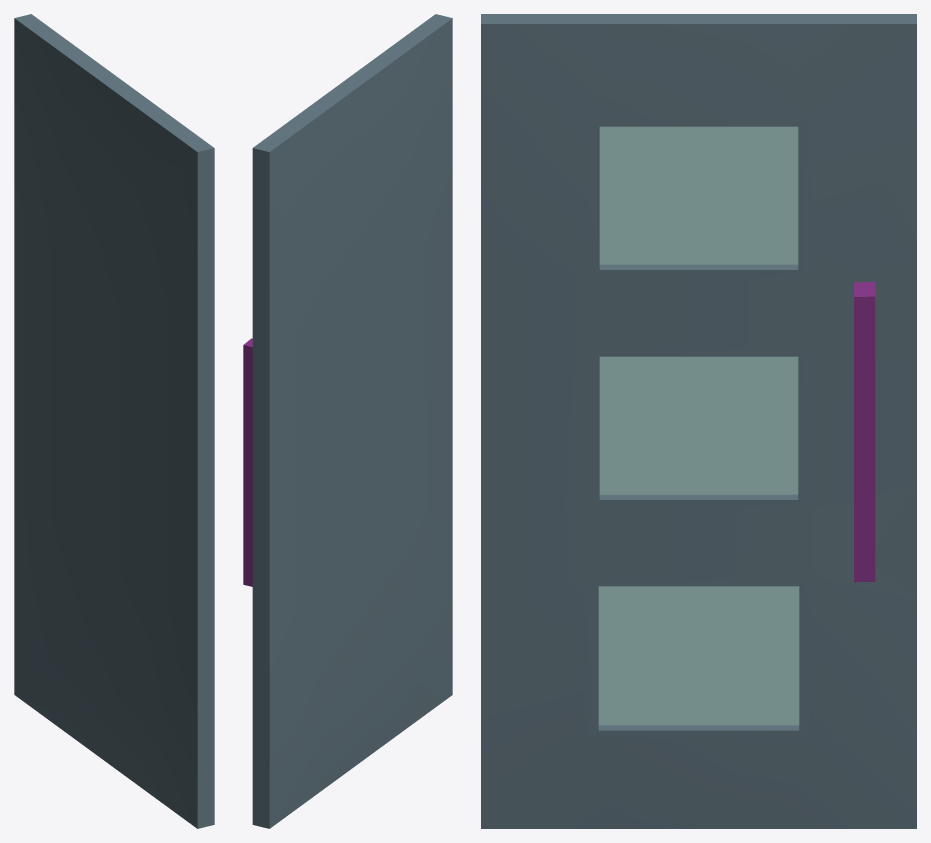
The model's file is DoorModern.fbx.
3 views of the same model, side by side, from view 1: azimuth 30°, elevation 25°; view 2: azimuth 150°, elevation 25°; view 3: azimuth 270°, elevation 25° (orthographic). The views are drawn at different scales.
Parts seen in each view (by area): view 1: pCube7; view 2: pCube7; view 3: pCube7.
Part boxes in pixels (x1,y1,x2,y2): pCube7: (14,14,214,828); pCube7: (243,14,452,828); pCube7: (481,14,916,828).
Bounding box in the file's own units: 0.5704 × 7.69 × 3.77.
